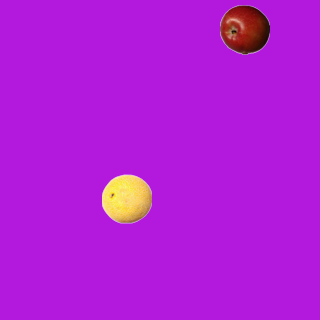Apple Braeburn: (219, 4, 269, 54)
Cantaloupe 1: (101, 173, 151, 223)
